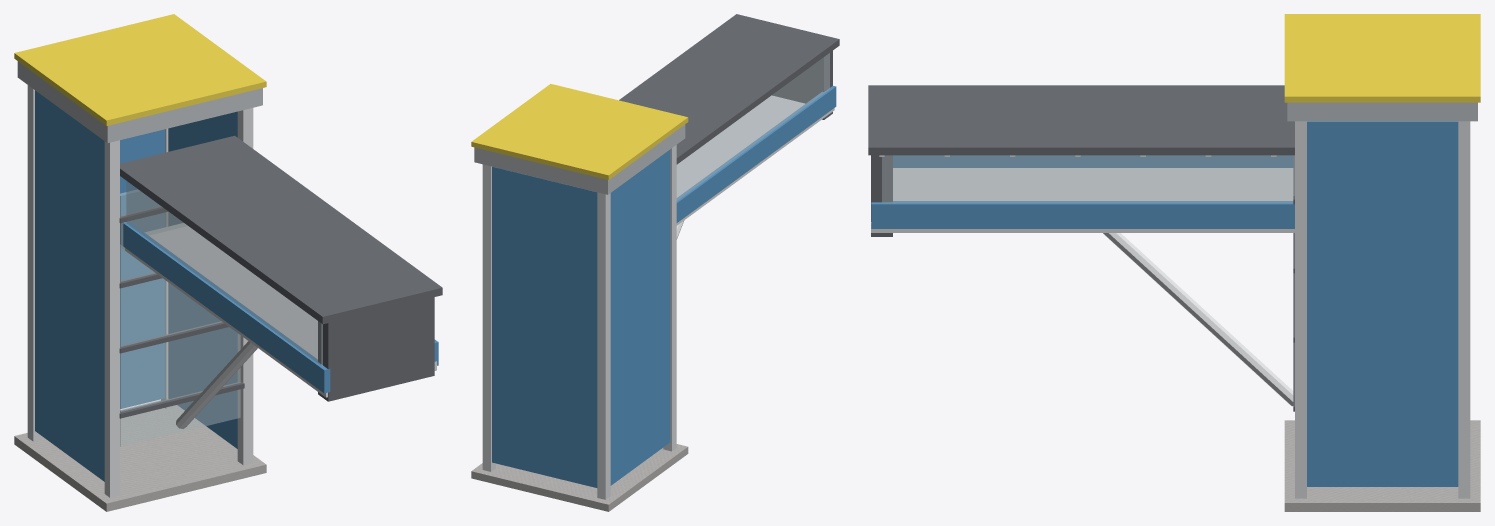
Rendered from ferry-terminal-and-harbour-crossing-ferry-terminal-and-aabfced1__35633.glb.
The picture shows the model from 3 angles, left to right: view 1: azimuth 30°, elevation 25°; view 2: azimuth 150°, elevation 25°; view 3: azimuth 270°, elevation 25°; orthographic projection. The views are drawn at different scales.
Visible parts, largest first — view 1: ferry-terminal-and-harbour-crossing-gangway-tower-and-walkwa (×7); view 2: ferry-terminal-and-harbour-crossing-gangway-tower-and-walkwa (×7); view 3: ferry-terminal-and-harbour-crossing-gangway-tower-and-walkwa (×7).
Boxes of the visible parts, <box> form: ferry-terminal-and-harbour-crossing-gangway-tower-and-walkwa (×7): <box>14,14,442,511</box>; ferry-terminal-and-harbour-crossing-gangway-tower-and-walkwa (×7): <box>471,14,839,511</box>; ferry-terminal-and-harbour-crossing-gangway-tower-and-walkwa (×7): <box>868,14,1480,511</box>.
Size of the model in its own units: 3.6 by 8.42 by 11.25.
7 materials, 1 textured.
